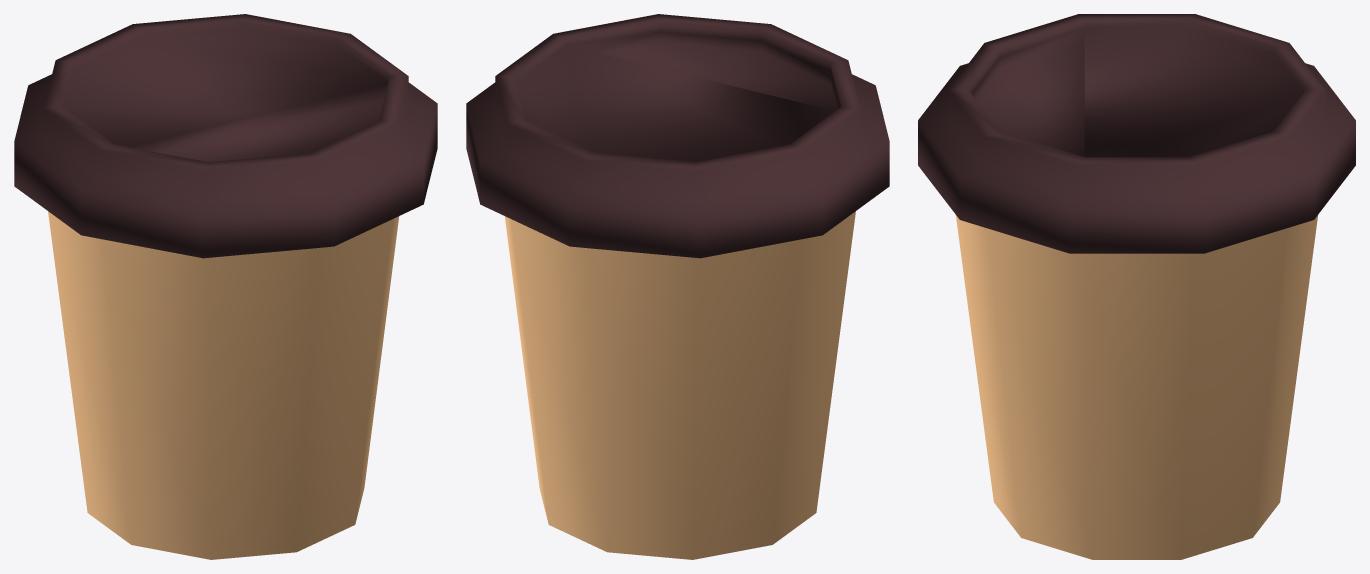
File: coffee_cup_E.glb
3 views of the same model, side by side, from view 1: azimuth 30°, elevation 25°; view 2: azimuth 150°, elevation 25°; view 3: azimuth 270°, elevation 25° (orthographic).
Visible parts, largest first — view 1: Copo cafe; view 2: Copo cafe; view 3: Copo cafe.
Part boxes in pixels (bbox=[...]): Copo cafe: bbox=[14, 14, 437, 559]; Copo cafe: bbox=[466, 14, 889, 559]; Copo cafe: bbox=[918, 14, 1355, 559].
Size of the model in its own units: 0.3526 by 0.3862 by 0.3707.
Materials: 1 (1 with a texture image).
